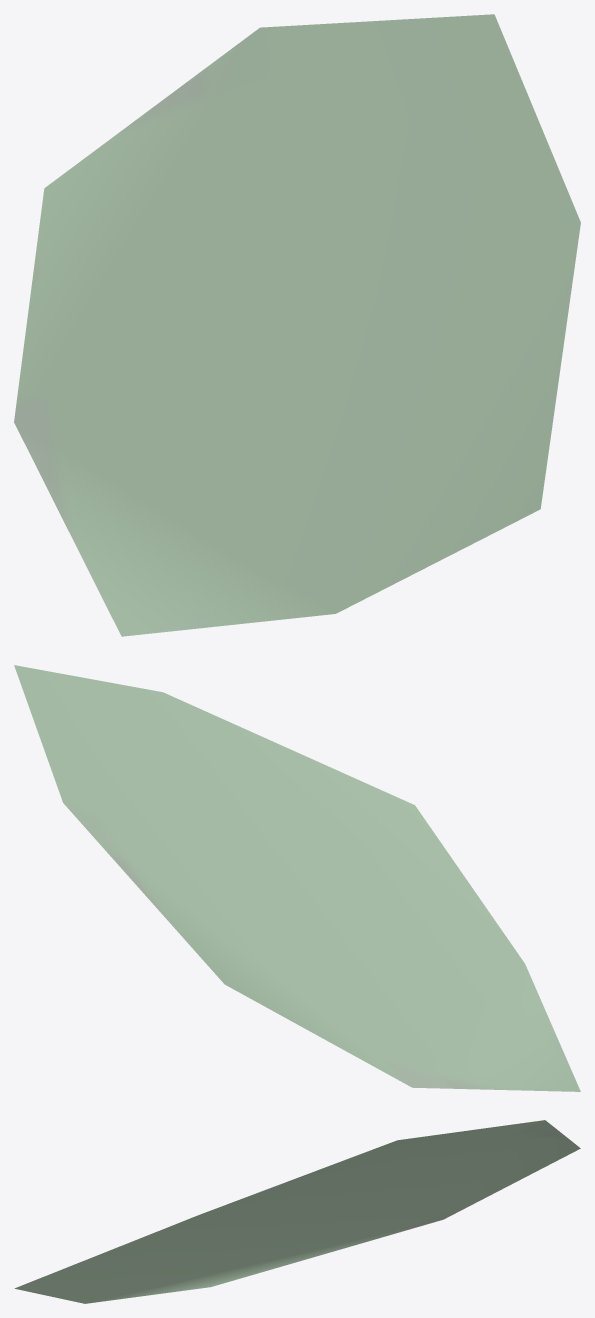
File: TROLLHOLE02_HOLECAP118.fbx
3 renders of one model, top to bottom at view 1: azimuth 30°, elevation 25°; view 2: azimuth 150°, elevation 25°; view 3: azimuth 270°, elevation 25°, orthographic. The views are drawn at different scales.
Parts seen in each view (by area): view 1: TROLLHOLE02_HOLECAP118; view 2: TROLLHOLE02_HOLECAP118; view 3: TROLLHOLE02_HOLECAP118.
Boxes of the visible parts, bbox=[...] form: TROLLHOLE02_HOLECAP118: bbox=[14, 14, 580, 636]; TROLLHOLE02_HOLECAP118: bbox=[14, 665, 580, 1091]; TROLLHOLE02_HOLECAP118: bbox=[14, 1120, 580, 1303].
Size of the model in its own units: 14503 by 11906 by 17991.
Materials: 1 (1 with a texture image).
